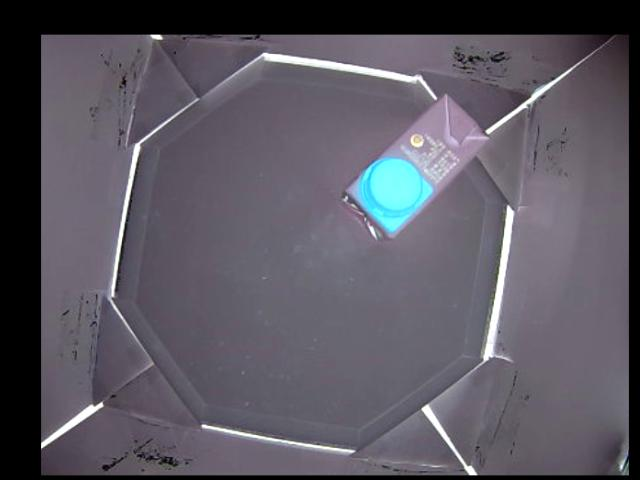Bottle: (340, 91, 487, 243)
